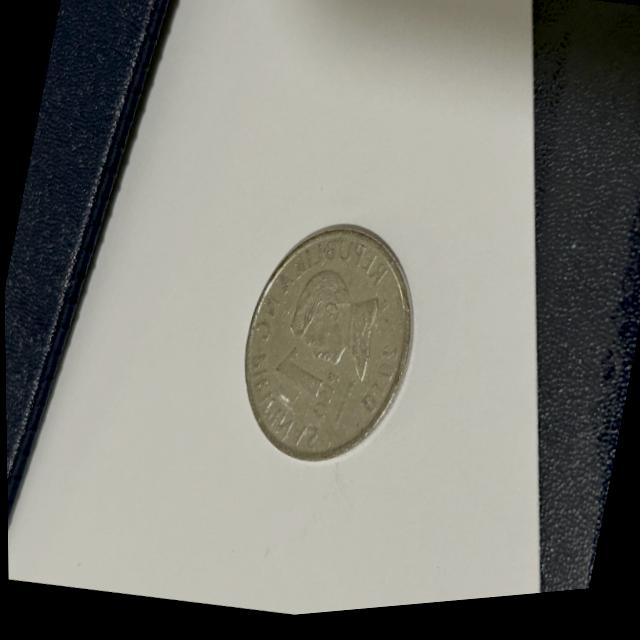1_Old_Front: (264, 345, 345, 434)
